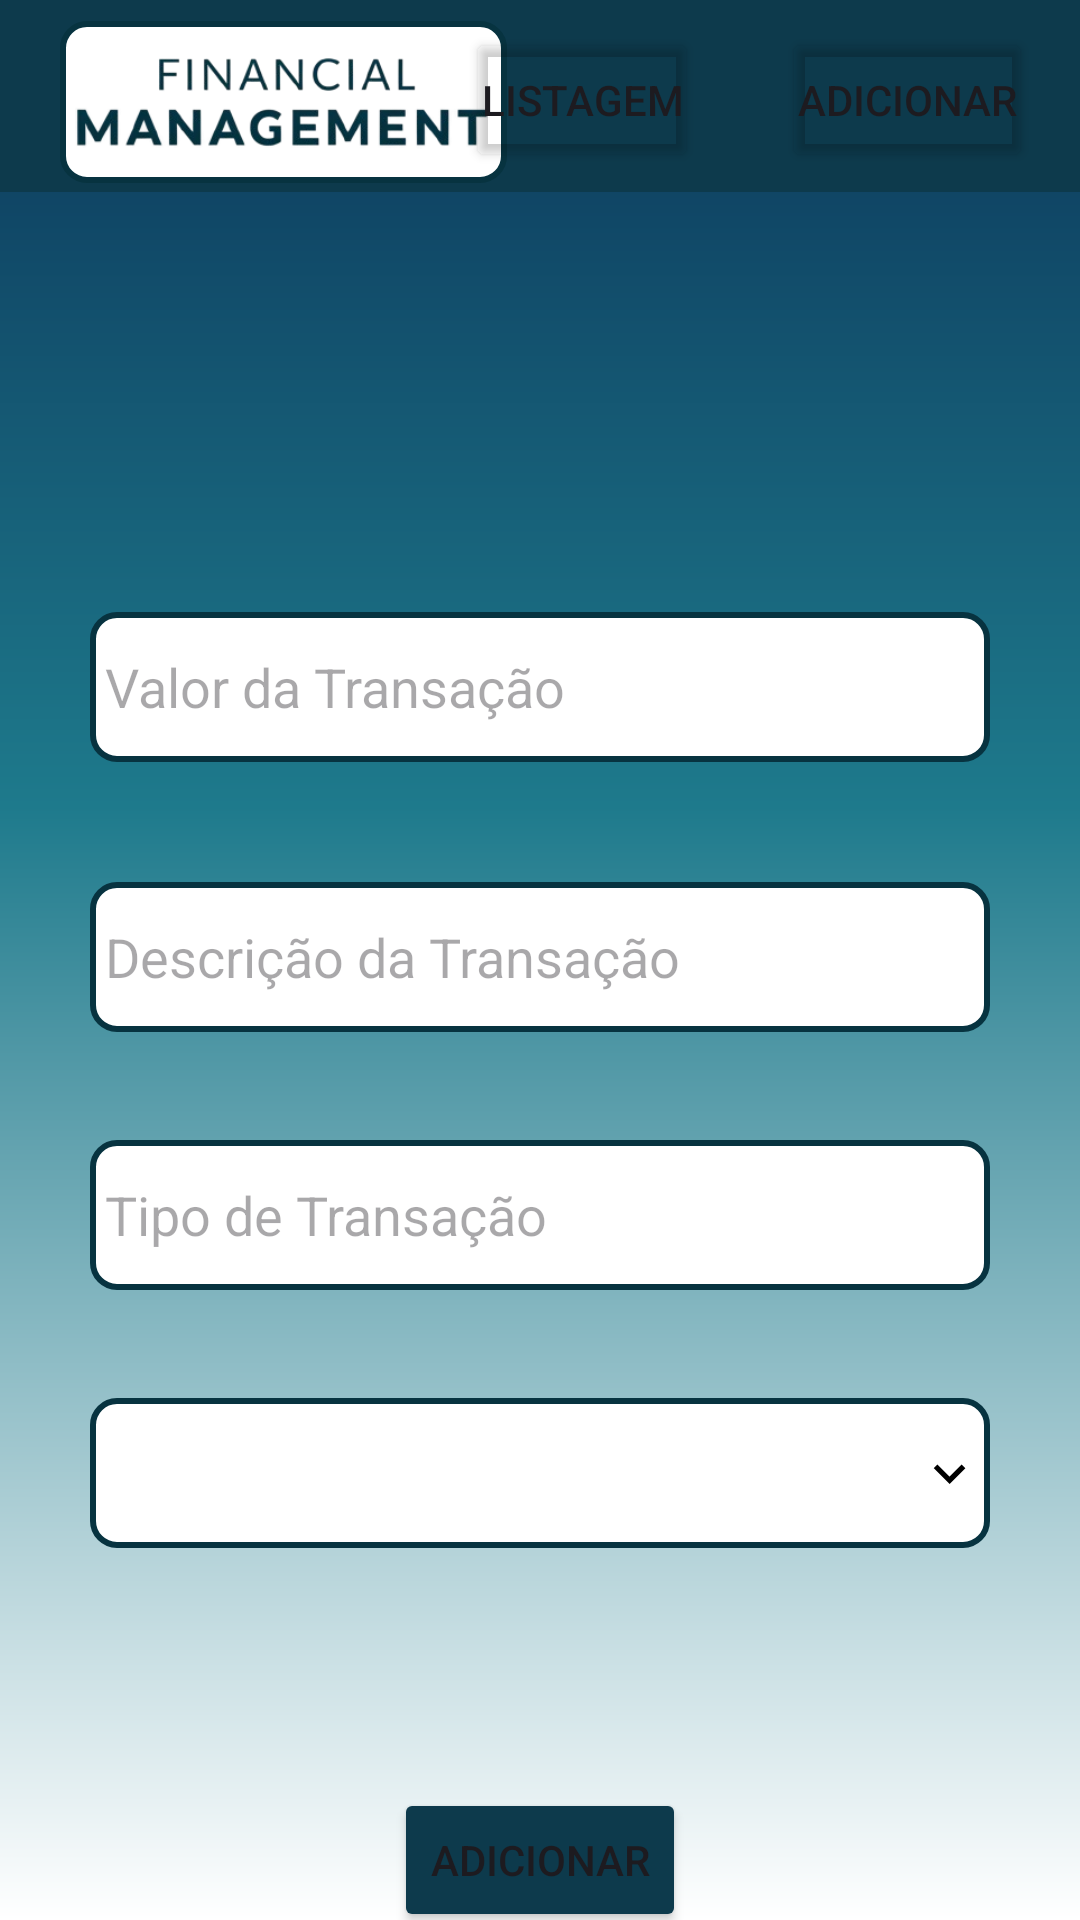

Icons on this 1080×1920 Android screen, each with its box as (x1, y1, x2, y2):
keyboard arrow down: (934, 1464, 966, 1484)
